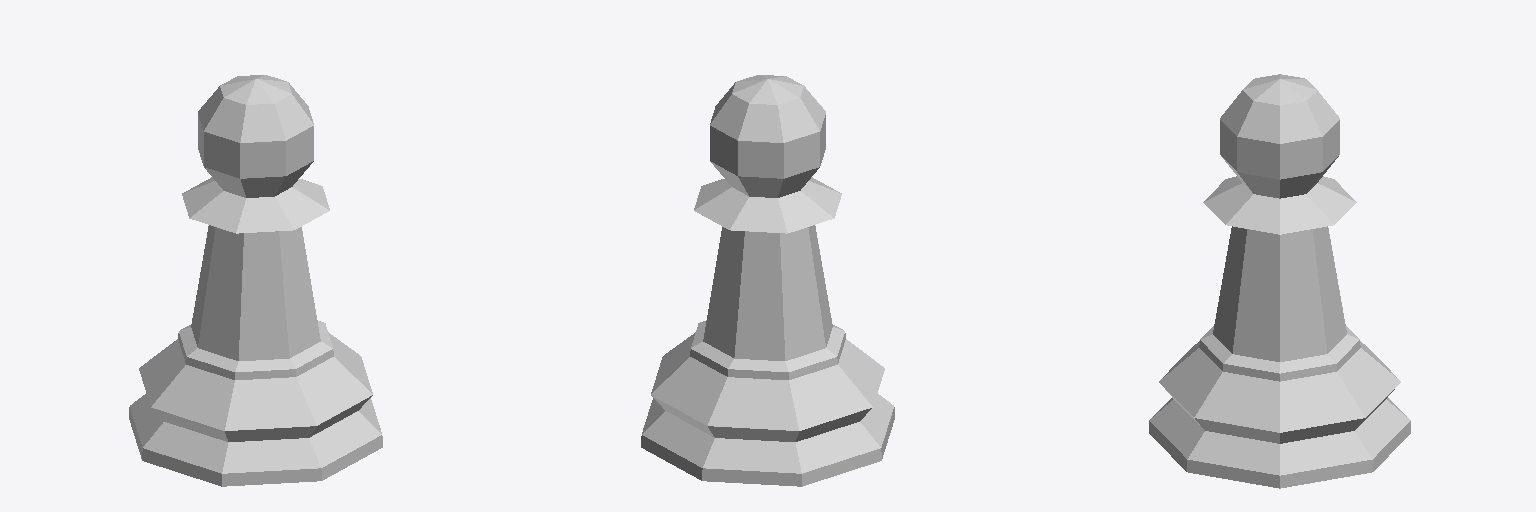
File: pawn.obj
3 renders of one model, left to right at view 1: azimuth 30°, elevation 25°; view 2: azimuth 150°, elevation 25°; view 3: azimuth 270°, elevation 25°, orthographic.
Parts seen in each view (by area): view 1: Pawn; view 2: Pawn; view 3: Pawn.
Boxes of the visible parts, <box> form: Pawn: <box>129,75,382,486</box>; Pawn: <box>641,75,894,486</box>; Pawn: <box>1149,74,1410,488</box>.
Size of the model in its own units: 3 by 4.46 by 3.